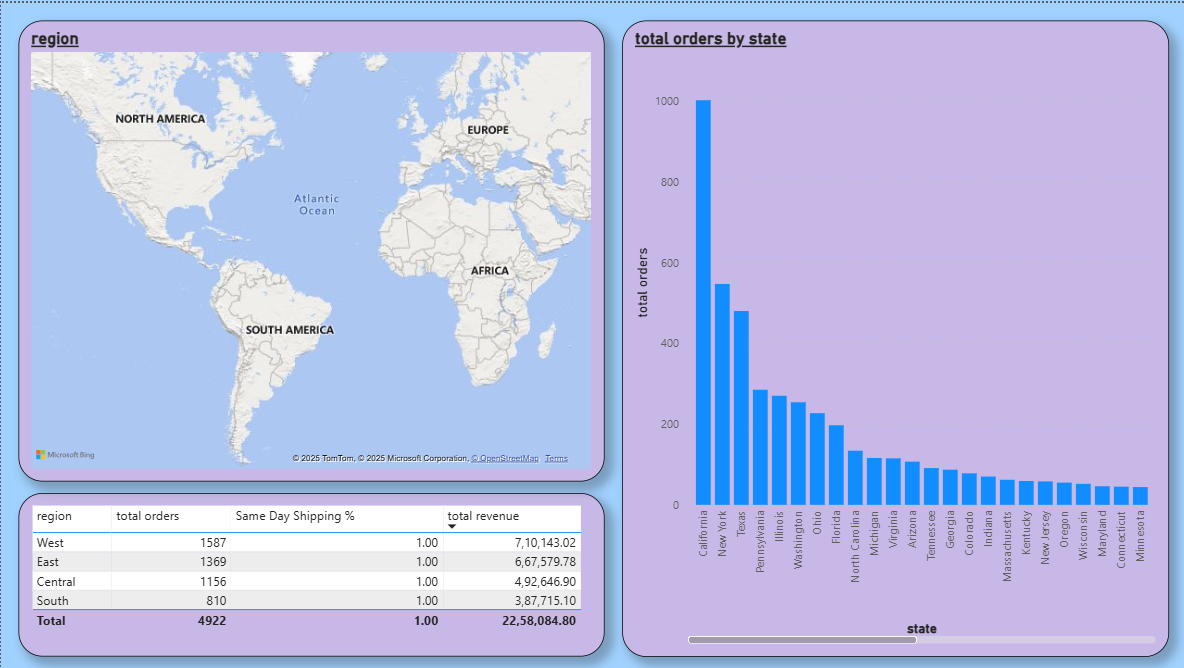

What the dashboard file says about the page in this screenshot:
{"tool":"powerbi","page":{"name":"Regional performance analysis","canvas":[1280,720],"ordinal":1},"visuals":[{"type":"columnChart","fields":{"Category":["dim_region.state"],"Y":["dim_customer.total orders"]},"box":[671.5,19.1,591.1,687.8],"z":0},{"type":"tableEx","fields":{"Values":["dim_region.region","dim_customer.total orders","dim_customer.Same Day Shipping %","dim_customer.total revenue"]},"box":[19.1,529.8,633.3,177.1],"z":1},{"type":"filledMap","fields":{"Category":["dim_region.region"]},"box":[19.1,19.1,633.3,498.5],"z":2}]}

Visuals, with their boxes in screenshot pixels (x1, y1, x2, y2), scaled from the page's 1280x720 canvas onto the 1184x668 screenshot:
columnChart - dim_region.state x dim_customer.total orders: select_region(621, 18, 1168, 656)
tableEx - dim_region.region x dim_customer.total orders: select_region(18, 492, 603, 656)
filledMap - dim_region.region: select_region(18, 18, 603, 480)
